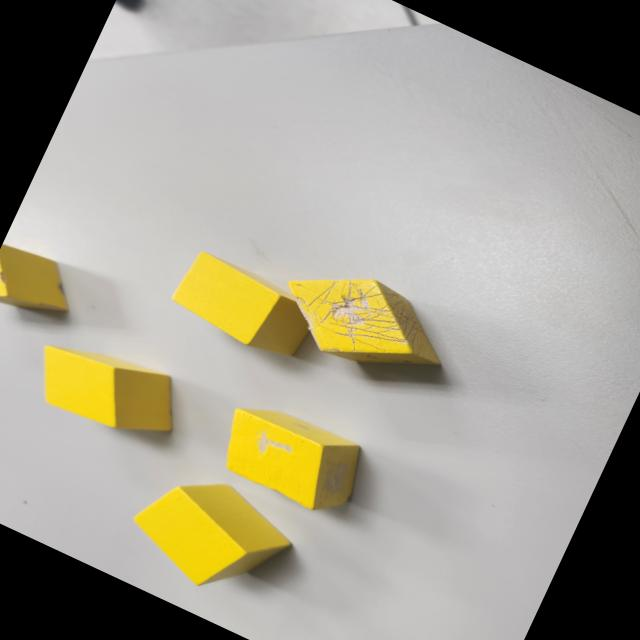broken: (270, 248, 466, 402), (206, 390, 372, 526), (0, 238, 83, 334)
yellow: (117, 452, 307, 617), (22, 324, 189, 456), (164, 245, 322, 368)
